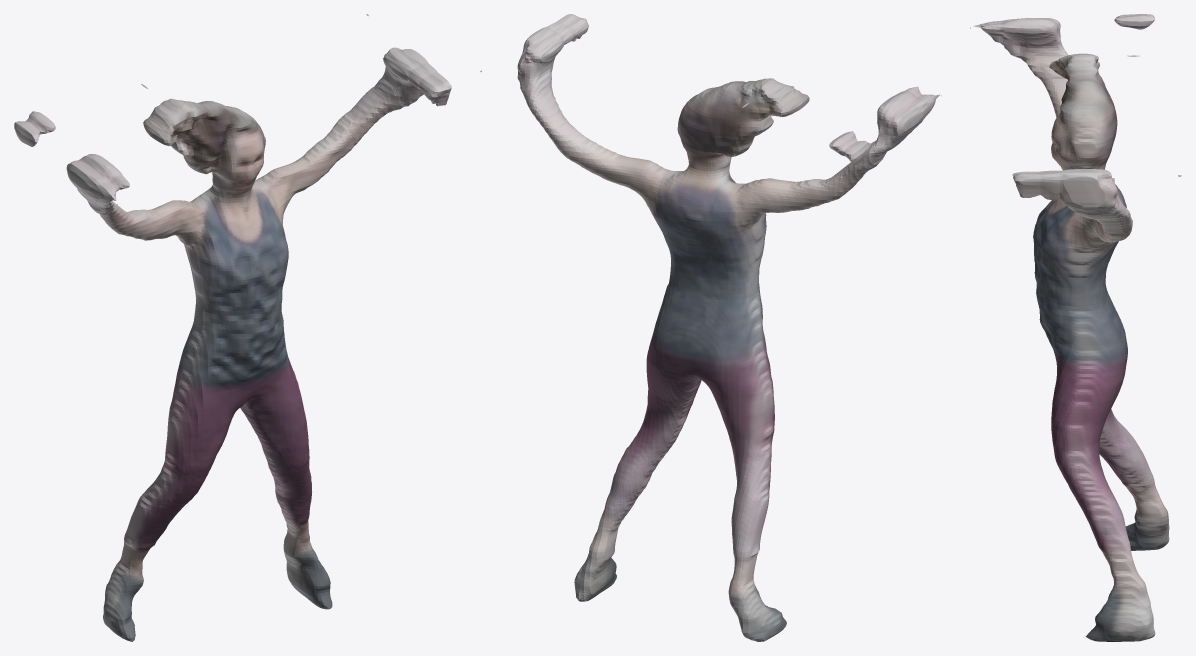
The model's file is 0142_tex.glb.
3 renders of one model, left to right at view 1: azimuth 30°, elevation 25°; view 2: azimuth 150°, elevation 25°; view 3: azimuth 270°, elevation 25°, orthographic. The views are drawn at different scales.
Visible parts, largest first — view 1: 0142_tex.obj; view 2: 0142_tex.obj; view 3: 0142_tex.obj.
Boxes of the visible parts, bbox=[...] form: 0142_tex.obj: bbox=[14, 14, 451, 641]; 0142_tex.obj: bbox=[480, 14, 941, 641]; 0142_tex.obj: bbox=[970, 14, 1181, 641].
Size of the model in its own units: 0.6305 by 0.8936 by 0.3341.
